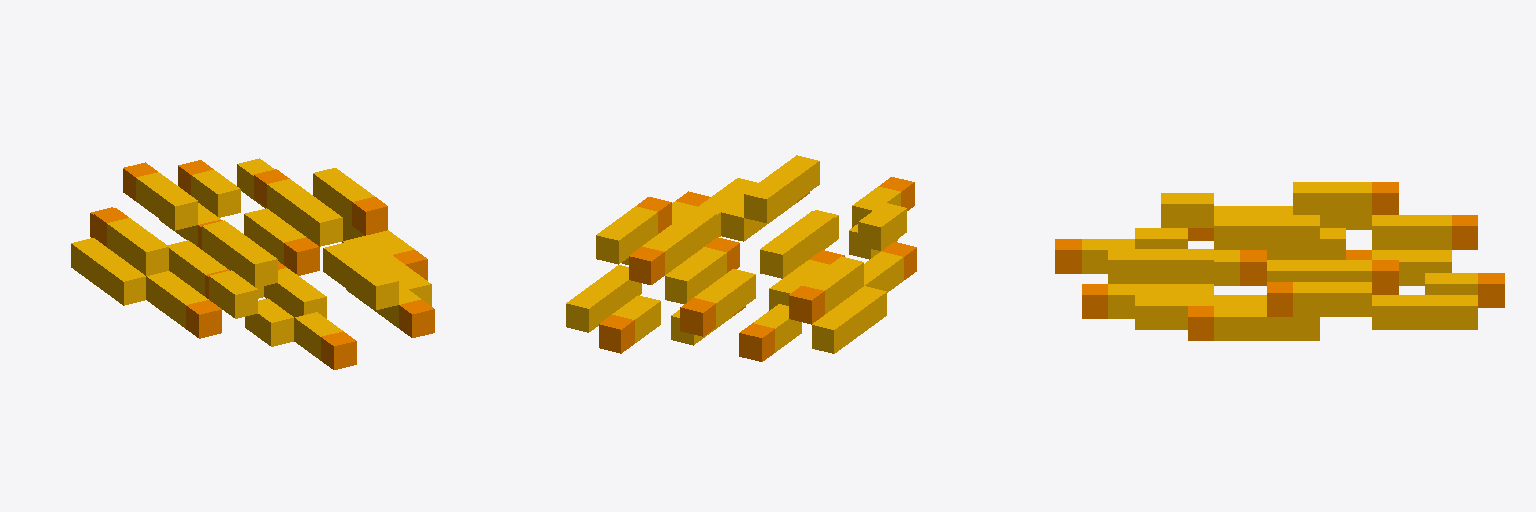
3 views of the same model, side by side, from view 1: azimuth 30°, elevation 25°; view 2: azimuth 150°, elevation 25°; view 3: azimuth 270°, elevation 25° (orthographic).
Parts seen in each view (by area): view 1: object 1; view 2: object 1; view 3: object 1.
Boxes of the visible parts, <box> form: object 1: <box>71,158,434,369</box>; object 1: <box>566,155,916,361</box>; object 1: <box>1055,182,1504,340</box>.
Size of the model in its own units: 1.1 by 0.2 by 1.7.
1 materials, 1 textured.